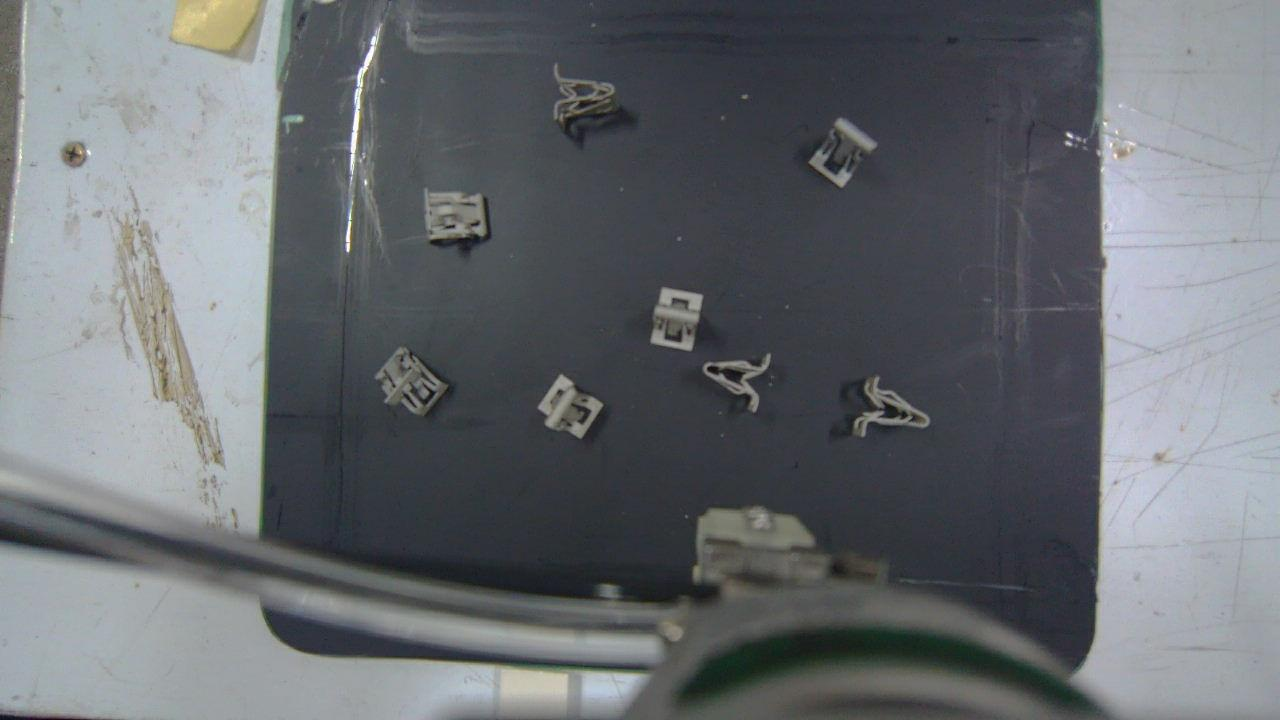ng: (375, 347, 446, 419), (852, 375, 930, 438), (809, 115, 875, 188), (704, 356, 773, 412), (554, 62, 614, 126), (423, 191, 487, 240)
pass: (536, 374, 604, 441), (651, 285, 704, 354)
